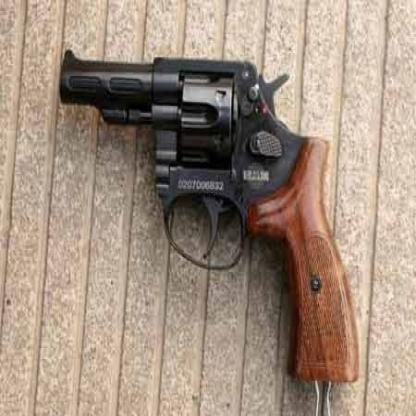handgun: (59, 49, 360, 383)
